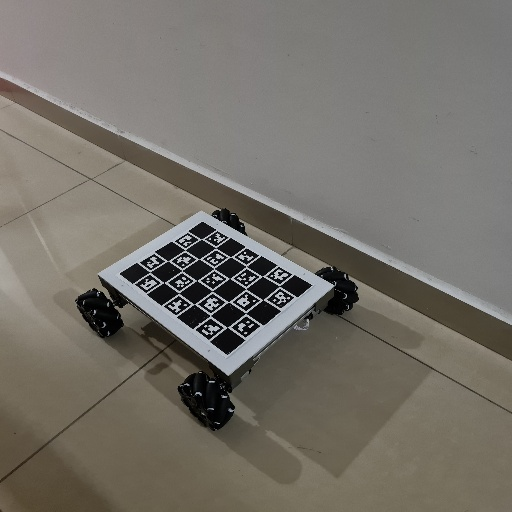Omniwheel: (75, 207, 361, 433)
